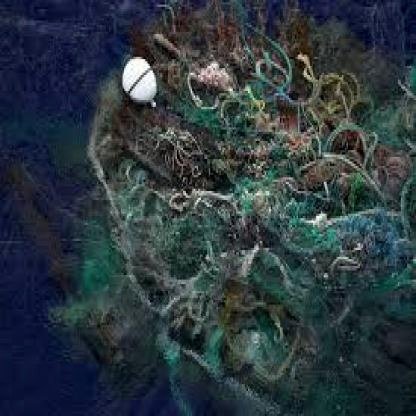net: (119, 23, 393, 357)
